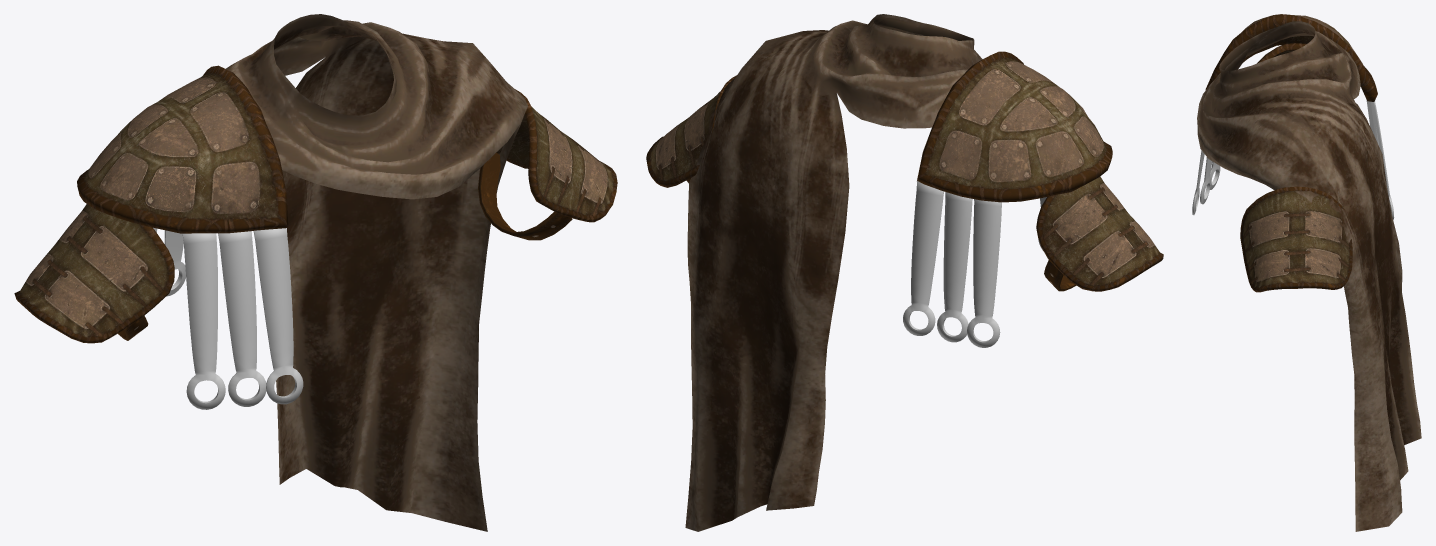
The model's file is dunland_caerdh_pauldron_elite_cape_b.fbx.
3 renders of one model, left to right at view 1: azimuth 30°, elevation 25°; view 2: azimuth 150°, elevation 25°; view 3: azimuth 270°, elevation 25°, orthographic. The views are drawn at different scales.
Visible parts, largest first — view 1: dunland_caerdh_pauldron_elite_cape_b.cape, dunland_caerdh_pauldron_elite_cape_b, dunland_caerdh_pauldron_elite_cape_b.straps; view 2: dunland_caerdh_pauldron_elite_cape_b.cape, dunland_caerdh_pauldron_elite_cape_b, dunland_caerdh_pauldron_elite_cape_b.straps; view 3: dunland_caerdh_pauldron_elite_cape_b.cape, dunland_caerdh_pauldron_elite_cape_b, dunland_caerdh_pauldron_elite_cape_b.straps.
Boxes of the visible parts, box(x1,y1,x2,y2) form: dunland_caerdh_pauldron_elite_cape_b.cape: box(226, 14, 527, 531); dunland_caerdh_pauldron_elite_cape_b: box(14, 65, 617, 343); dunland_caerdh_pauldron_elite_cape_b.straps: box(153, 227, 303, 409); dunland_caerdh_pauldron_elite_cape_b.cape: box(685, 14, 982, 531); dunland_caerdh_pauldron_elite_cape_b: box(646, 51, 1163, 291); dunland_caerdh_pauldron_elite_cape_b.straps: box(903, 181, 1046, 347); dunland_caerdh_pauldron_elite_cape_b.cape: box(1197, 21, 1421, 531); dunland_caerdh_pauldron_elite_cape_b: box(1205, 14, 1377, 292); dunland_caerdh_pauldron_elite_cape_b.straps: box(1192, 100, 1394, 219).
Bounding box in the file's own units: 0.8069 × 0.3817 × 0.7842.
